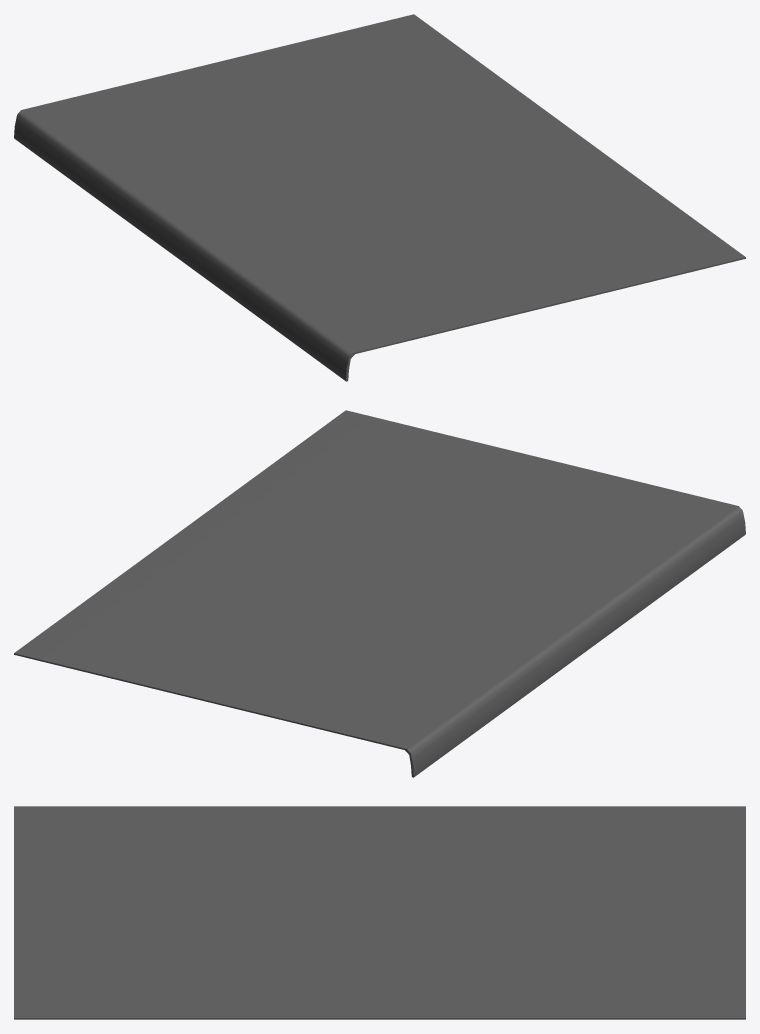
The model's file is Book_23_book_front_23_2.obj.
3 views of the same model, one above another, from view 1: azimuth 30°, elevation 25°; view 2: azimuth 150°, elevation 25°; view 3: azimuth 270°, elevation 25° (orthographic). The views are drawn at different scales.
Bounding box in the file's own units: 0.2163 × 0.0141 × 0.3109.
Materials: 1 (1 with a texture image).
